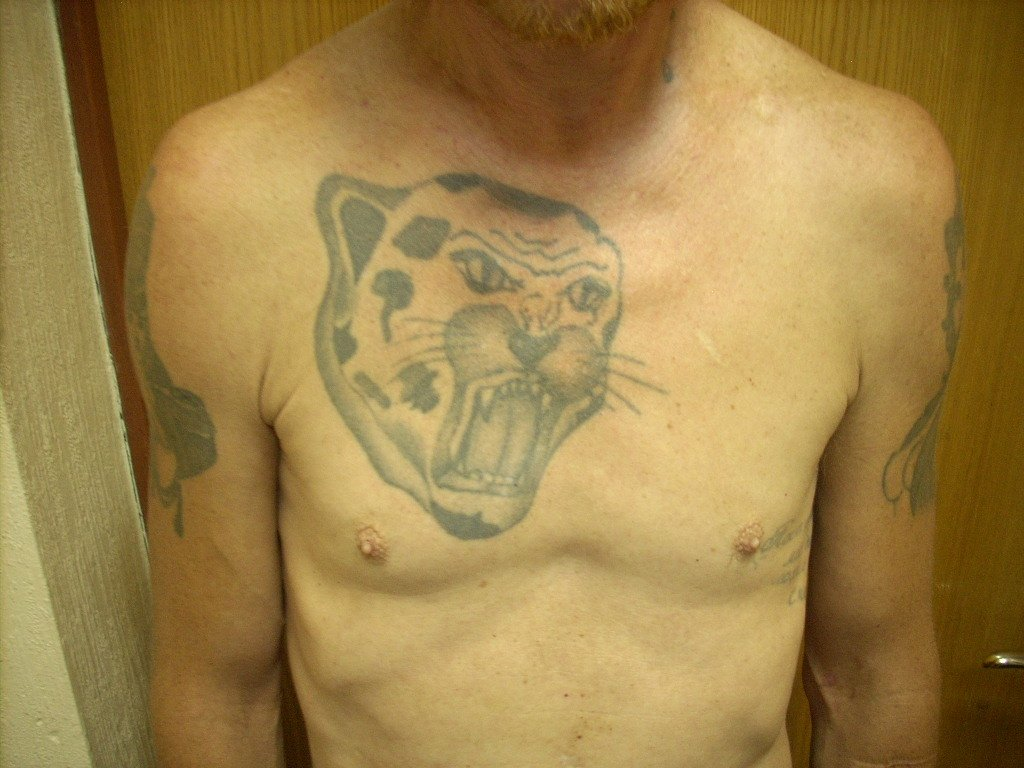tatu5_tigr: (283, 125, 676, 568)
